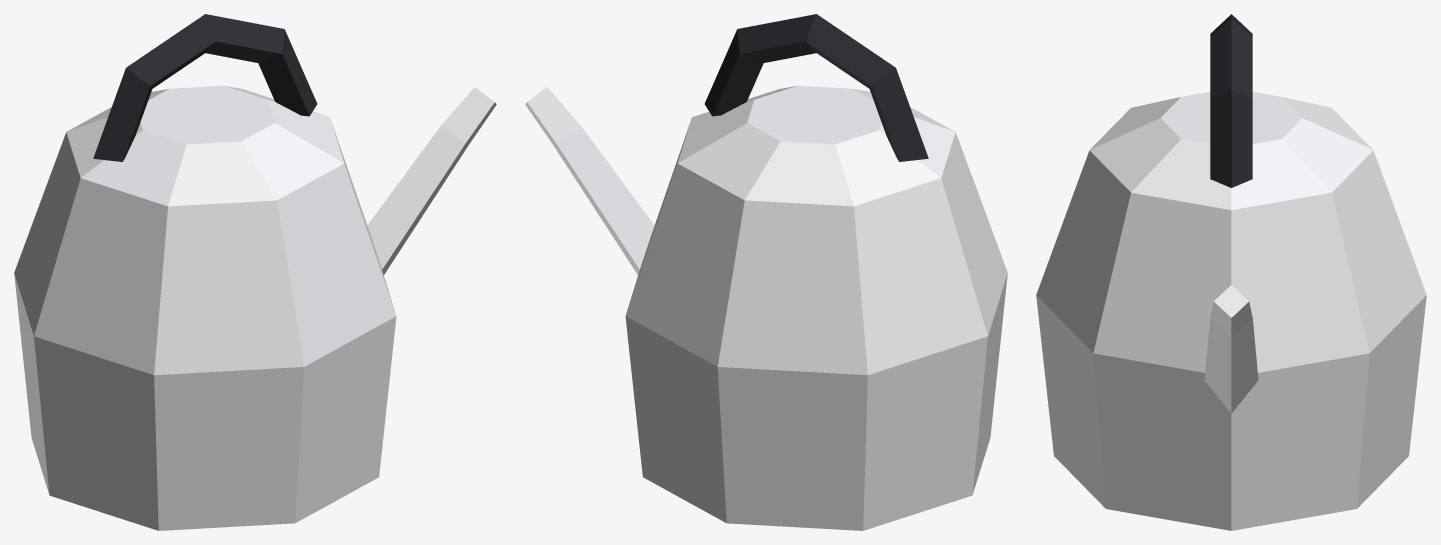
The model's file is Kettle.fbx.
3 views of the same model, side by side, from view 1: azimuth 30°, elevation 25°; view 2: azimuth 150°, elevation 25°; view 3: azimuth 270°, elevation 25° (orthographic).
Visible parts, largest first — view 1: Kettle; view 2: Kettle; view 3: Kettle.
Part boxes in pixels (bbox=[...]): Kettle: bbox=[14, 14, 496, 530]; Kettle: bbox=[525, 14, 1007, 530]; Kettle: bbox=[1036, 14, 1426, 530].
Size of the model in its own units: 1.49 by 1.36 by 1.1.
Materials: 1 (1 with a texture image).
